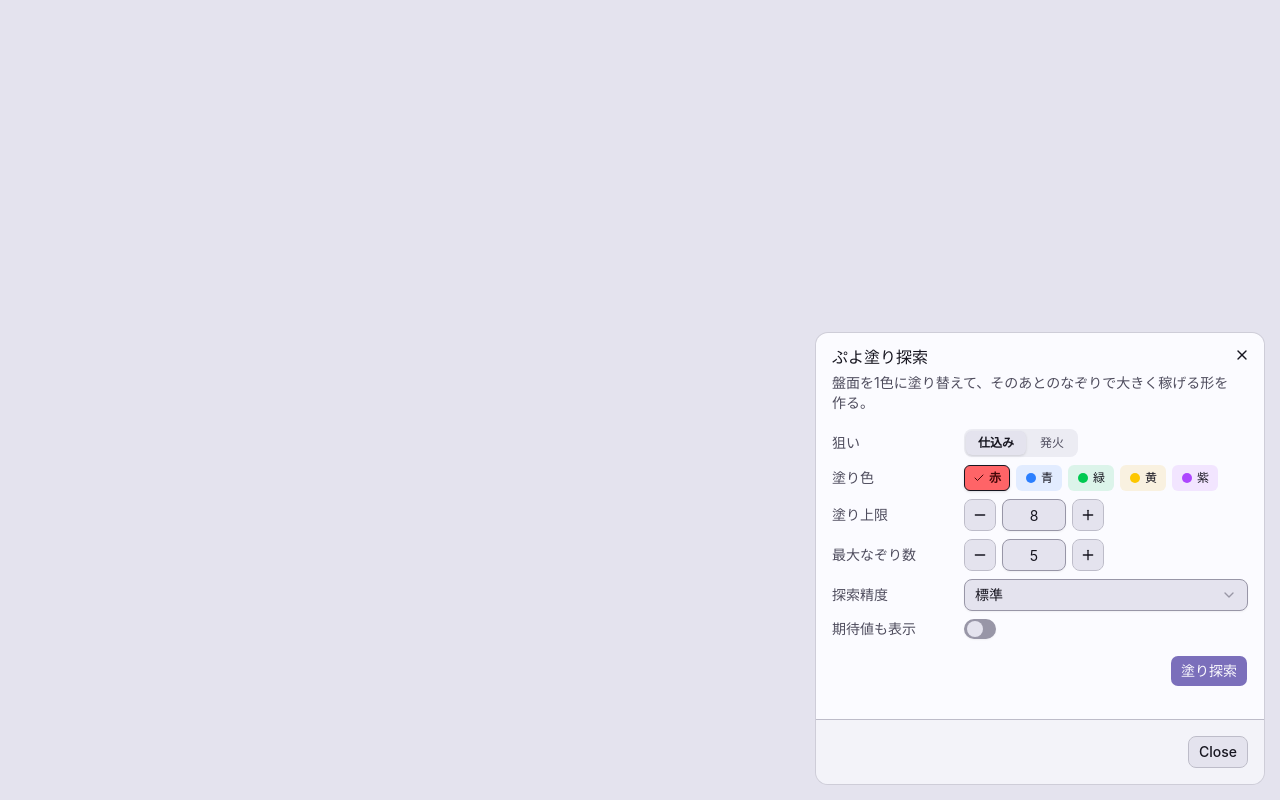
PaintSearchDialog › shows the expected value column when it is turned on
Click the switch named "期待値も表示": point(980, 629) x1=964 y1=619 x2=996 y2=639
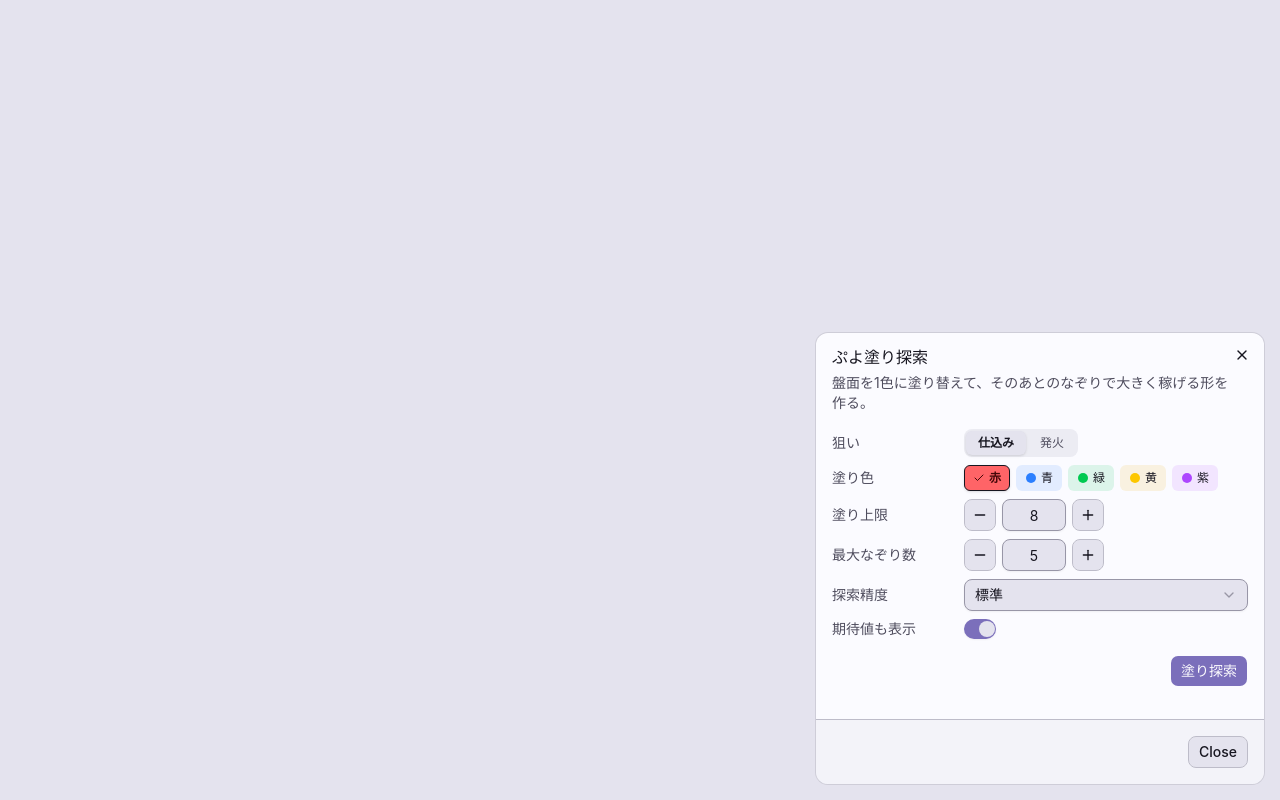
Click the button "塗り探索": point(1209, 671) x1=1170 y1=655 x2=1248 y2=687
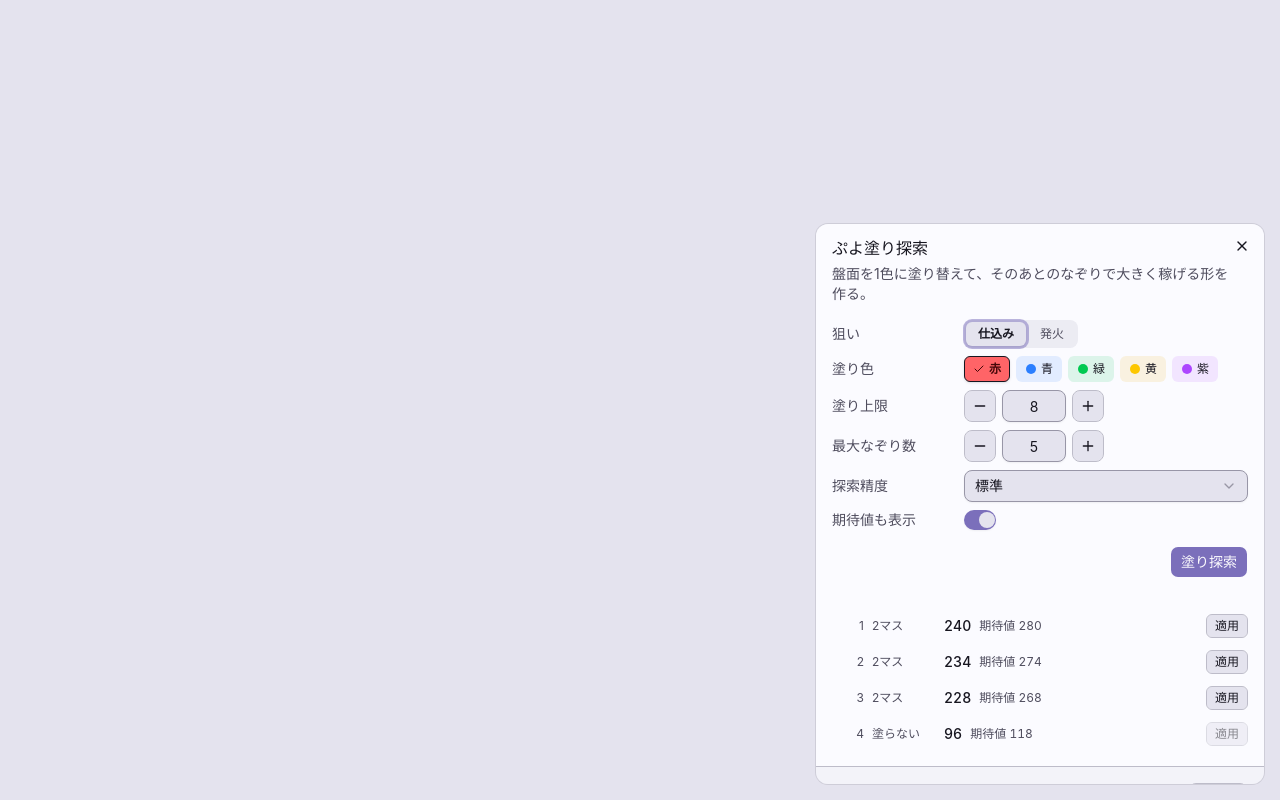
Result: the text "期待値 280" is shown at x1=979 y1=618 x2=1042 y2=634
